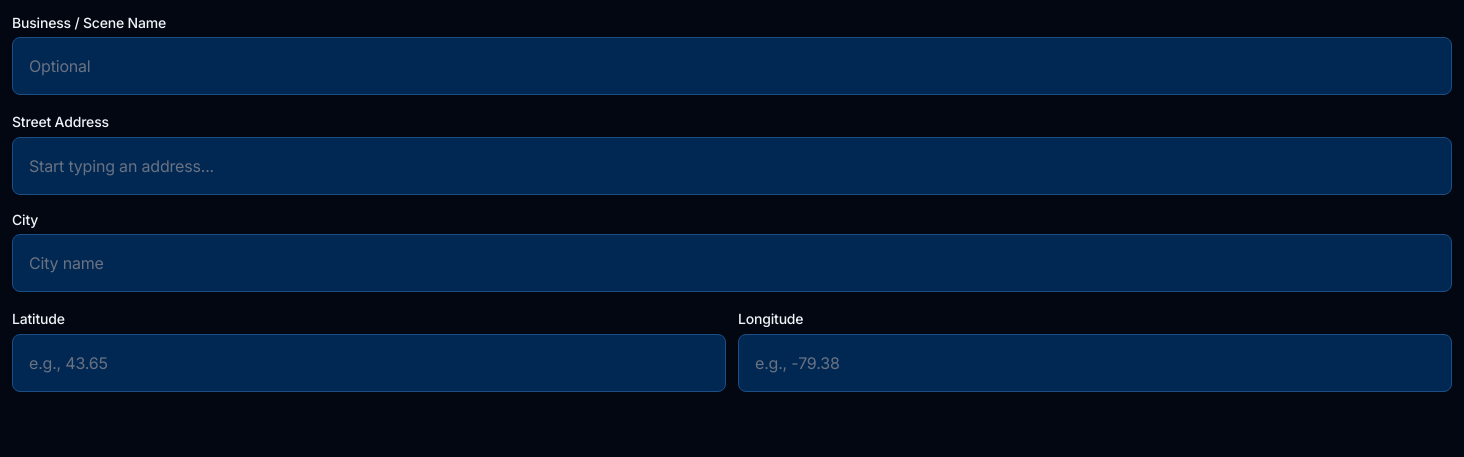
Test: IncidentLocationFields — coordinate error a11y (R-16) › associates and announces the message, not just the red border
Type "43.6abc" into the field named "Latitude" at [369, 363], box [12, 334, 726, 392]
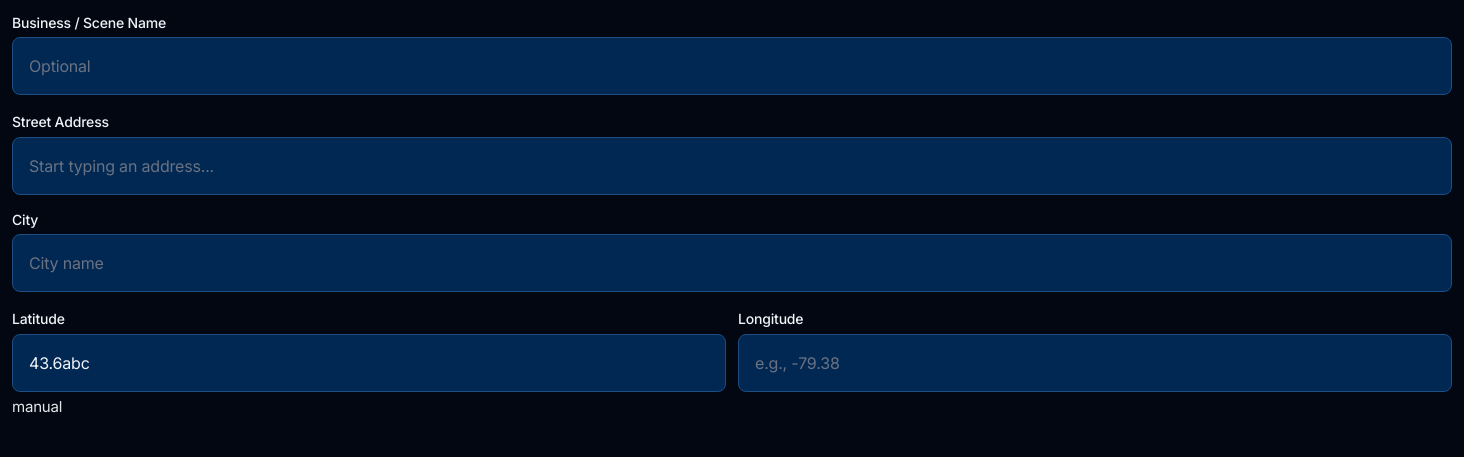
Leave the field named "Latitude", box [12, 334, 726, 392]
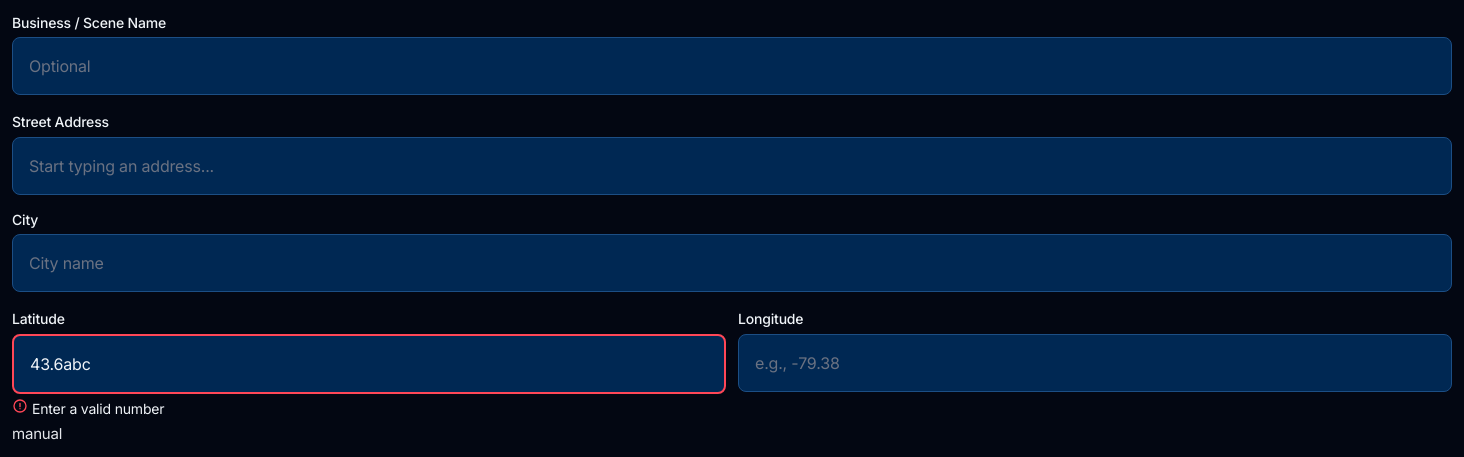
expect the message reads "Enter a valid number": met, box [32, 400, 164, 417]
